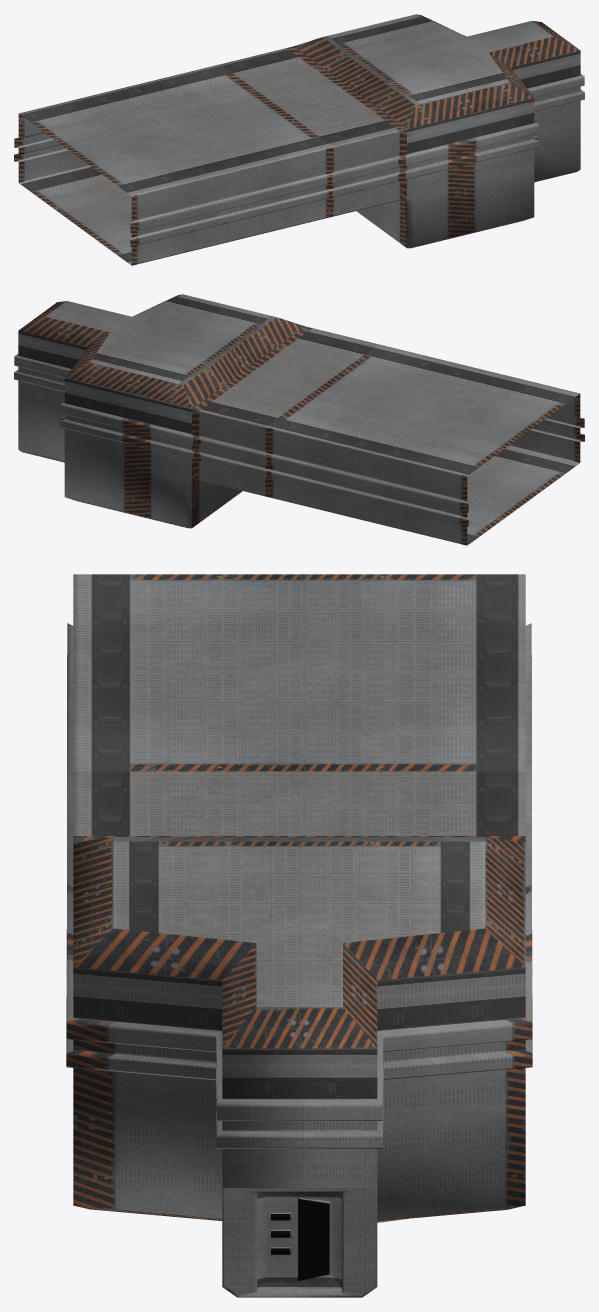
Rendered from Sci Fi Room Game.fbx.
3 renders of one model, top to bottom at view 1: azimuth 30°, elevation 25°; view 2: azimuth 150°, elevation 25°; view 3: azimuth 270°, elevation 25°, orthographic. The views are drawn at different scales.
Parts seen in each view (by area): view 1: Cube; view 2: Cube; view 3: Cube.
Boxes of the visible parts, x1,y1,x2,y2 form: Cube: (14, 14, 584, 265); Cube: (14, 294, 584, 545); Cube: (66, 574, 532, 1297).
Size of the model in its own units: 2085 by 553 by 856.
